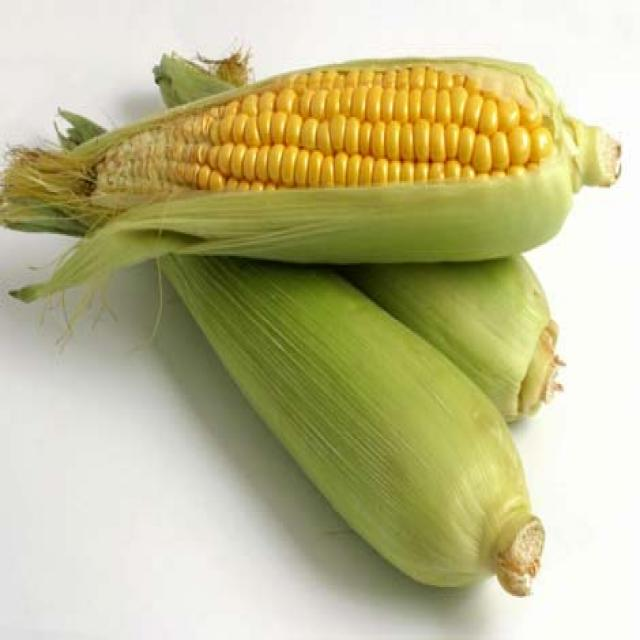corn: (157, 58, 556, 224)
